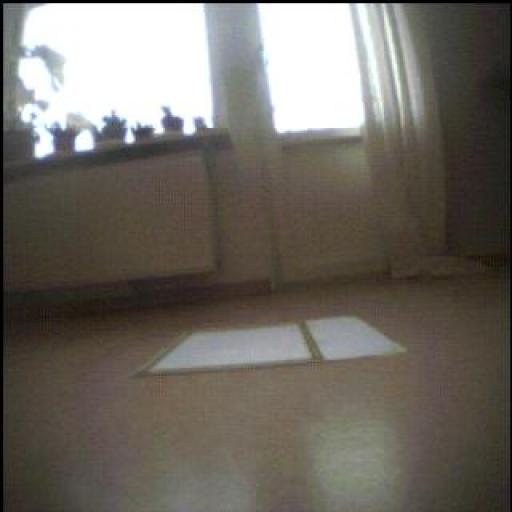Pad: (136, 310, 410, 374)
